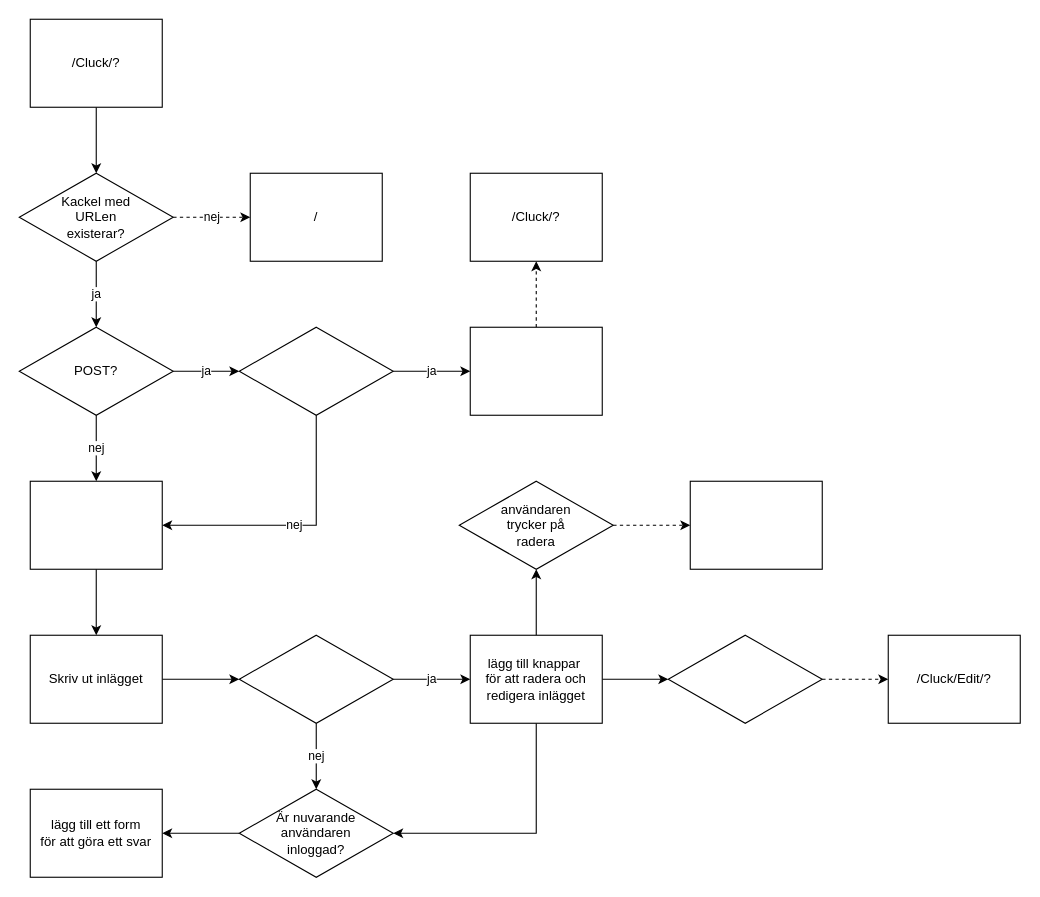
Image size: 1040x897. Some labels were removed from this diagram. The shapes that lost their labels are listed below. From the top down, each one's centre as x and y in pixels, then its label:
At point (315, 370): "svars formet validerar?".
At point (535, 370): "Skapa nytt inlägg".
At point (95, 524): "Skriv ut eventuellt svar till inlägget".
At point (755, 524): "/Cluck/Delete/?".
At point (315, 678): "Skrev nuvarande användaren inlägget?".
At point (744, 678): "användaren trycker på redigera".
